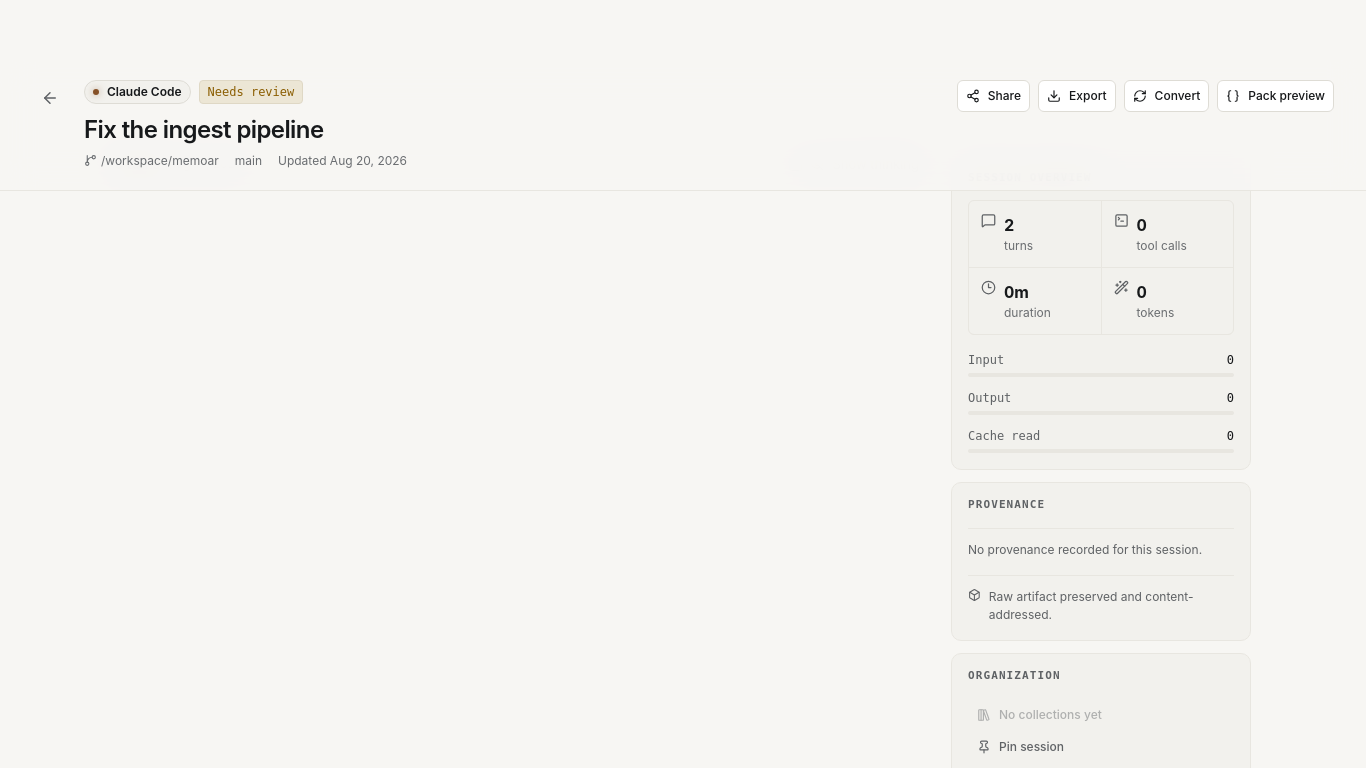
it: redaction review before sharing › lists what the scanner actually found in this session
The image size is (1366, 768).
Click the button "Share".
click(993, 96)  # box [957, 80, 1030, 112]
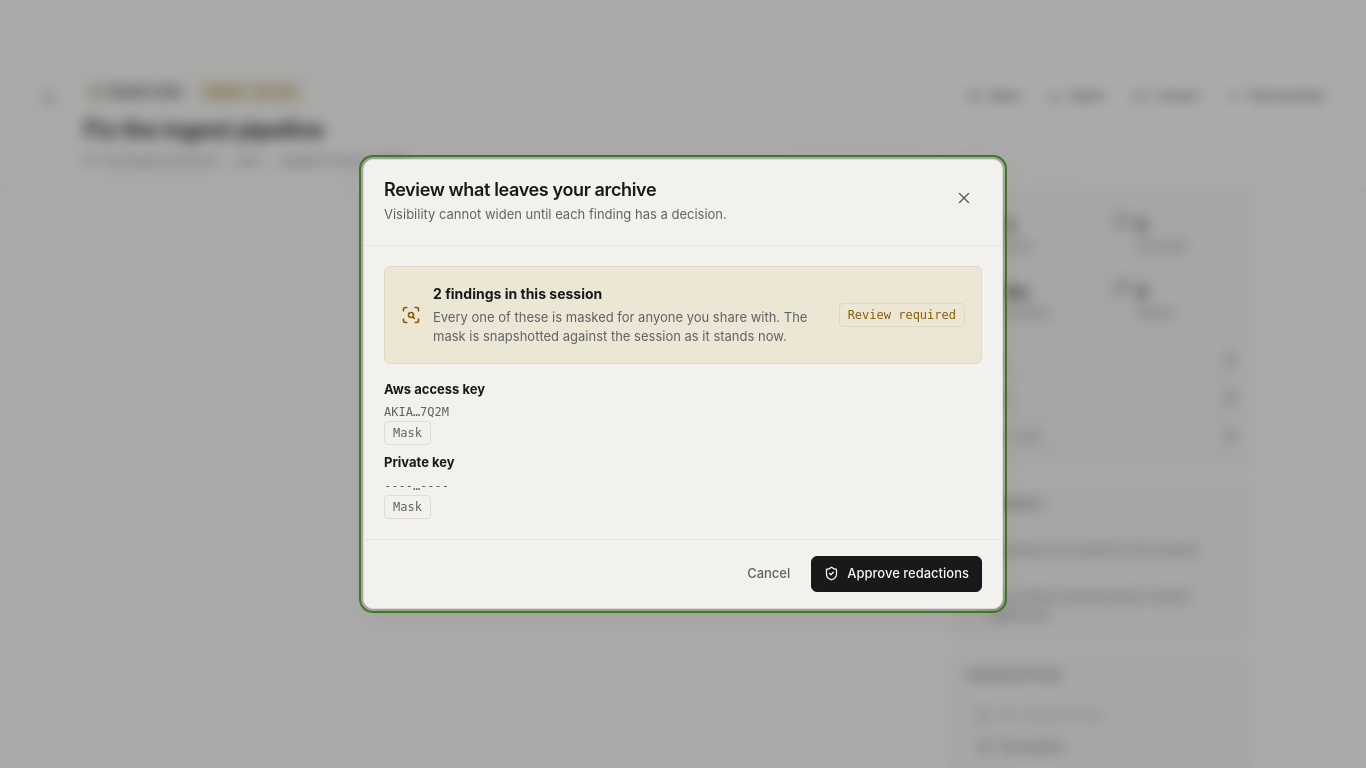
Result: the text "2 findings in this session" is shown at [433, 285, 602, 302]
Result: the text "Aws access key" is shown at [384, 381, 485, 397]
Result: the text "AKIA…7Q2M" is shown at [384, 405, 449, 419]
